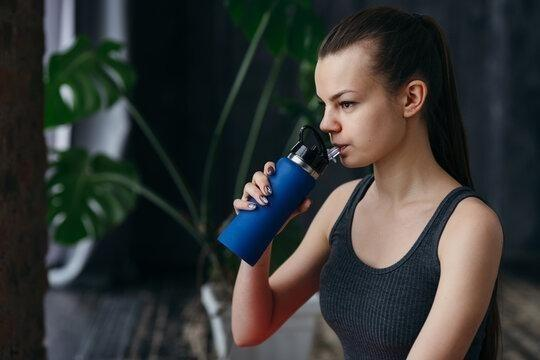gym bottle: (217, 123, 339, 265)
